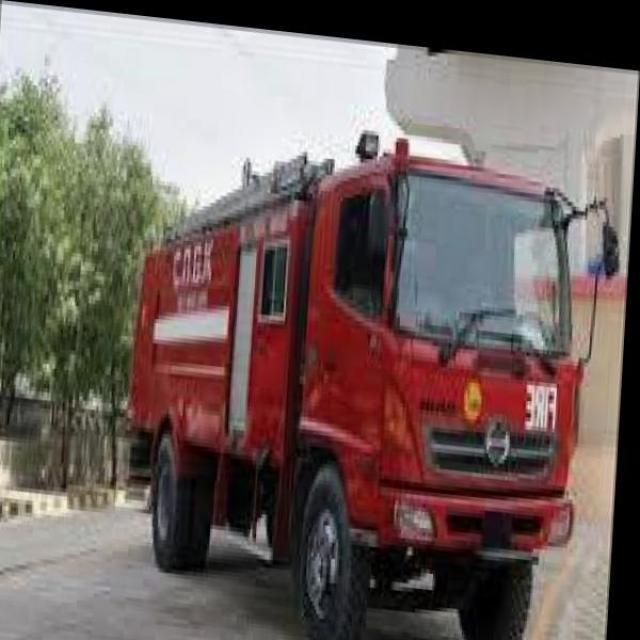emergency: (124, 130, 616, 638)
